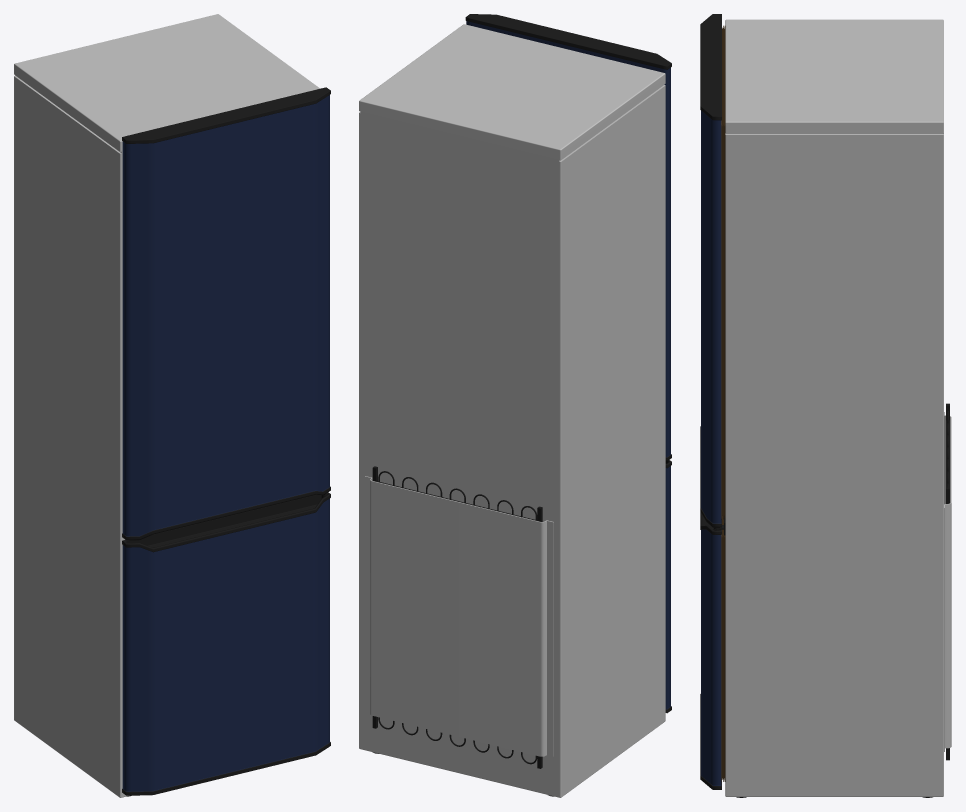
The model's file is Holodilnic.fbx.
The picture shows the model from 3 angles, left to right: view 1: azimuth 30°, elevation 25°; view 2: azimuth 150°, elevation 25°; view 3: azimuth 270°, elevation 25°; orthographic projection. The views are drawn at different scales.
Parts seen in each view (by area): view 1: Holodilnic; view 2: Holodilnic; view 3: Holodilnic.
Boxes of the visible parts, <box> form: Holodilnic: <box>14,14,330,797</box>; Holodilnic: <box>359,14,671,797</box>; Holodilnic: <box>700,14,951,797</box>.
Size of the model in its own units: 60 by 186 by 62.12.
